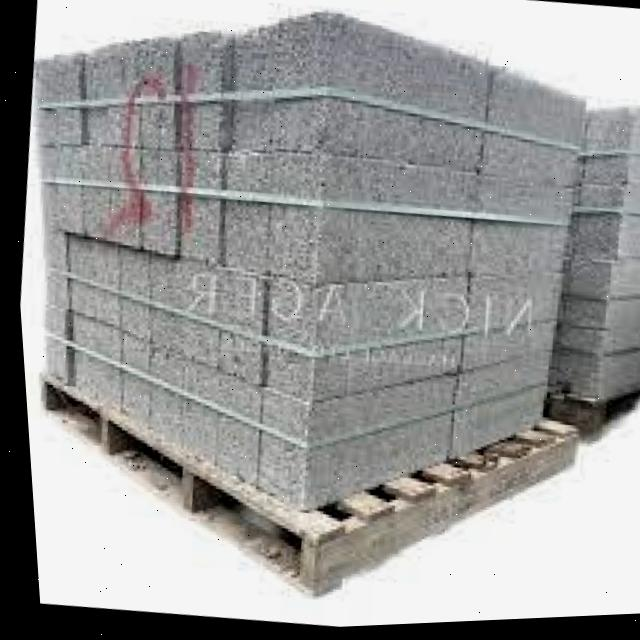bricks: (42, 12, 584, 506)
